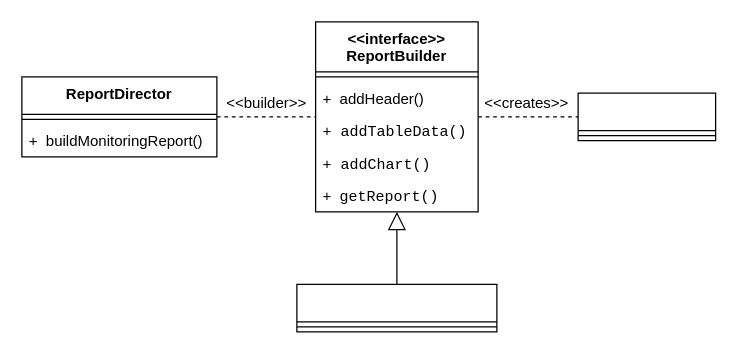
This 738x354 diagram has some shape labels left out. Here are the shapes that lost their labels. From the top down, the centre of each, then its label:
(646,116): Report
(396,307): MonitoringReportBuilder
